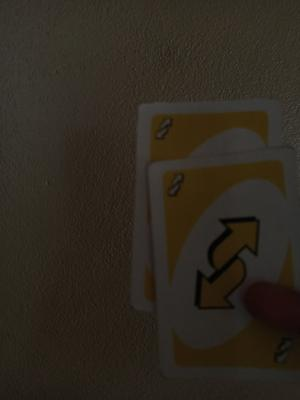yellow: (155, 118, 275, 348)
